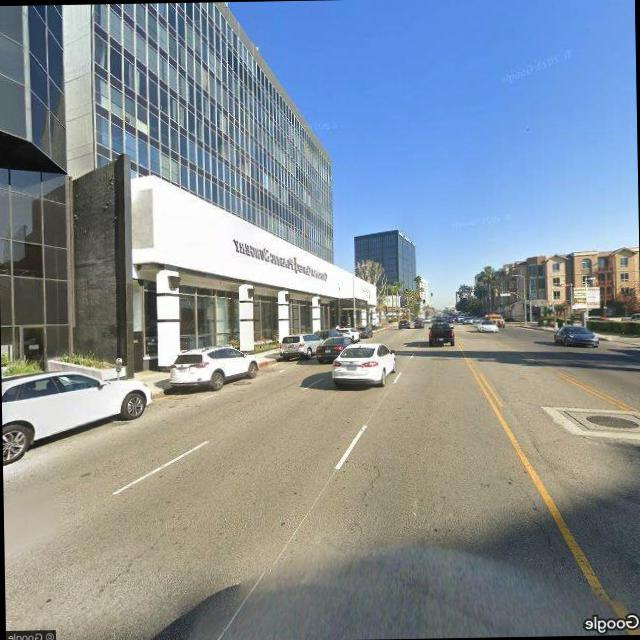crack: (91, 533, 169, 600), (512, 476, 557, 553), (360, 456, 386, 504)
